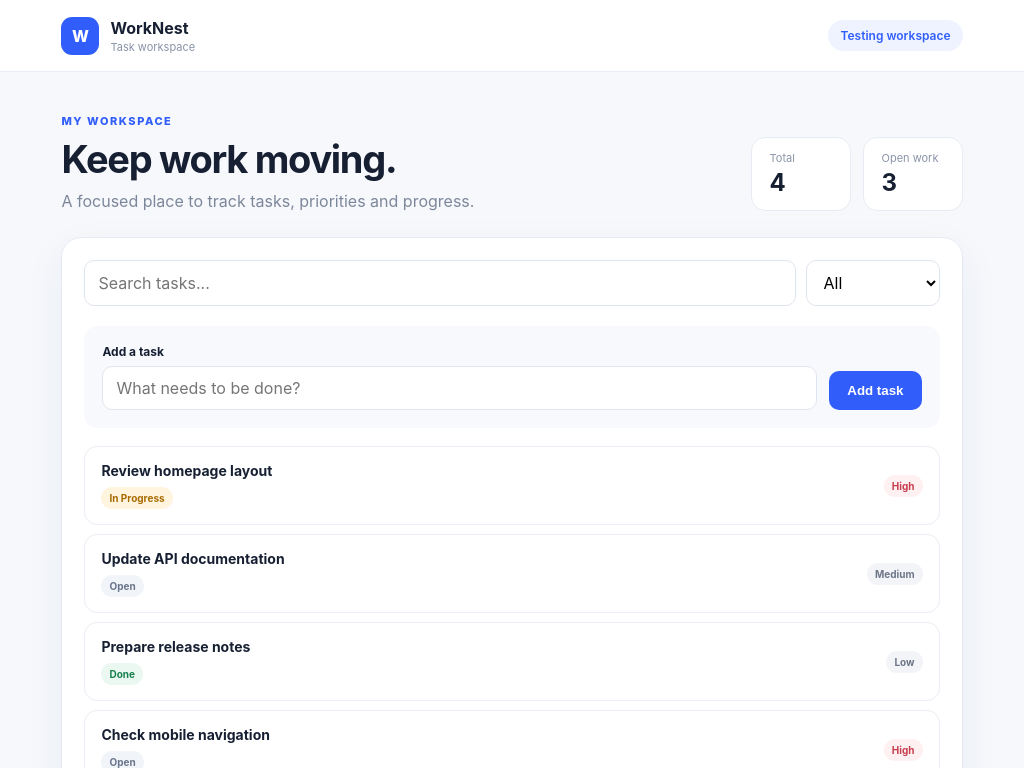
Test: WorkNest › updates open-work count after adding a task
This screenshot has width=1024, height=768.
Expected: the text with test id "open-work-count" reads "3", x1=882 y1=168 x2=897 y2=197
Type "New task" into the field with placeholder "What needs to be done?" at (460, 388), box x1=102 y1=366 x2=817 y2=410
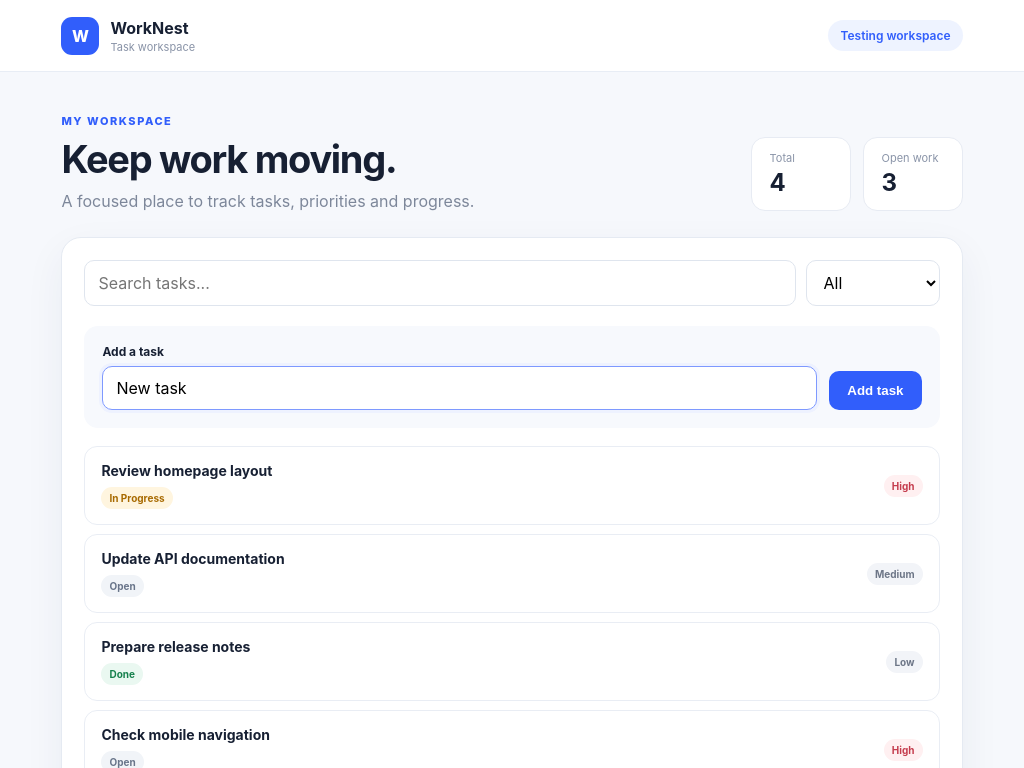
Click the button "Add task" at (875, 390), box x1=829 y1=371 x2=922 y2=410
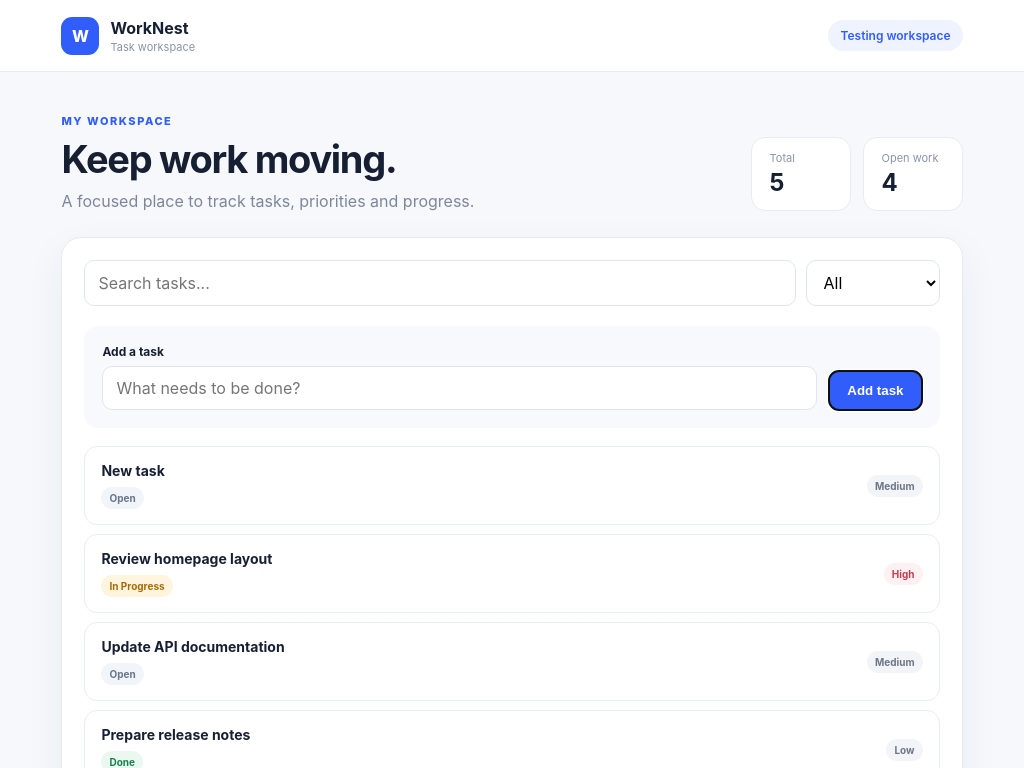
Result: the text with test id "open-work-count" reads "4" at x1=882 y1=168 x2=898 y2=197
